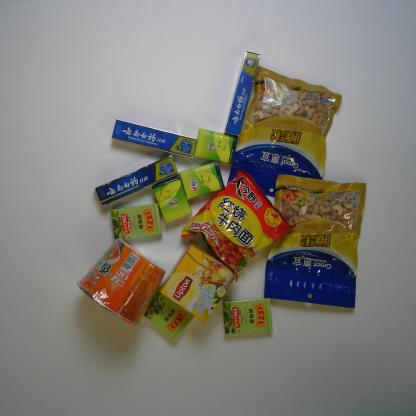Candy: (142, 288, 194, 342), (110, 199, 164, 244), (216, 296, 276, 336)
Dried Fruit: (226, 63, 348, 198), (262, 172, 367, 312)
Instant Drink: (158, 244, 240, 324)
Instant Noodles: (180, 168, 294, 276), (73, 240, 168, 331)
Personal Hygiene: (89, 156, 182, 209), (108, 118, 200, 162), (221, 48, 264, 138)
Tissue: (189, 126, 242, 166), (152, 177, 196, 225), (175, 162, 227, 202)
